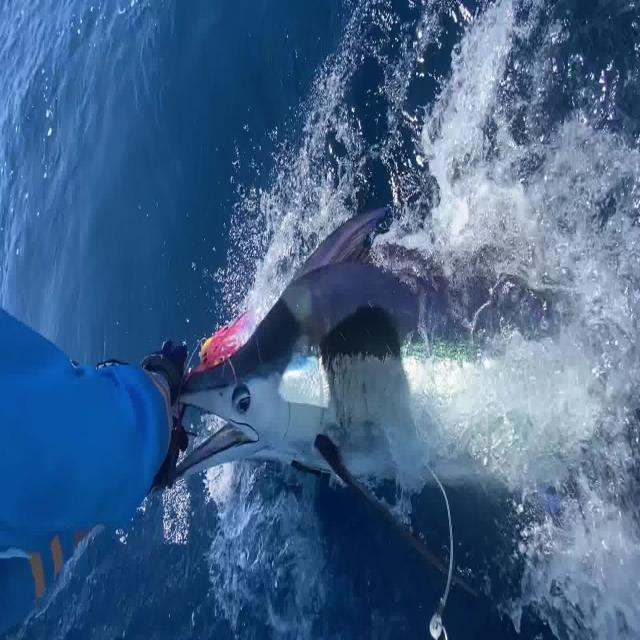Liberacion segura: (171, 203, 640, 606)
